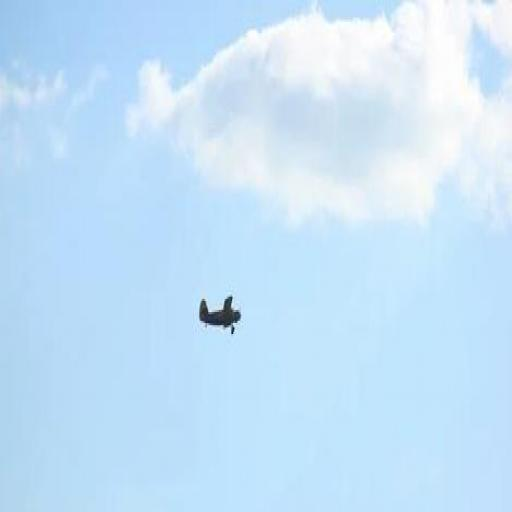aircraft: (194, 288, 243, 347)
